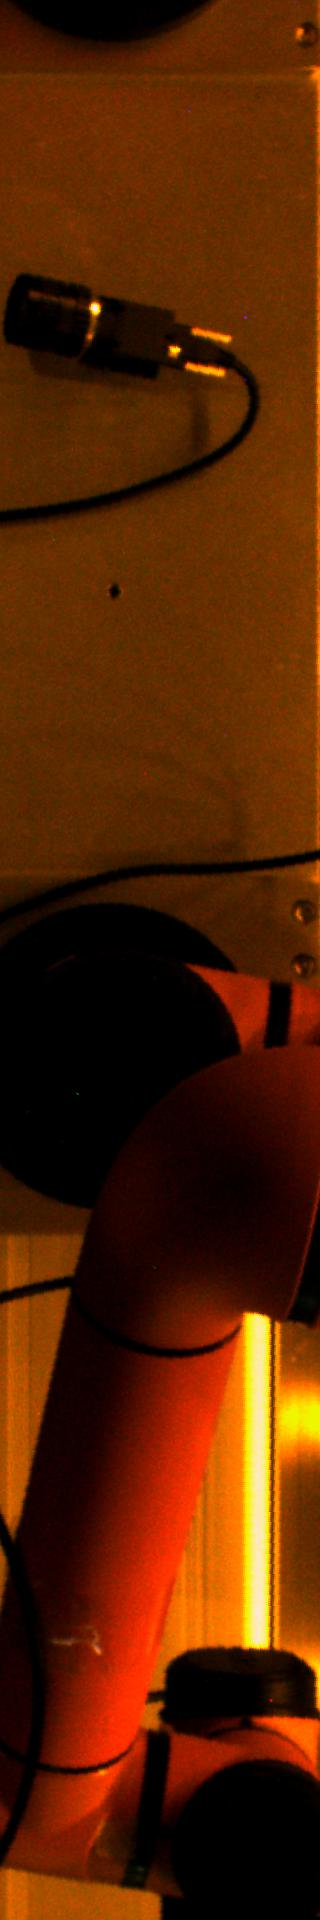keyPoint_2: (98, 578, 128, 609)
